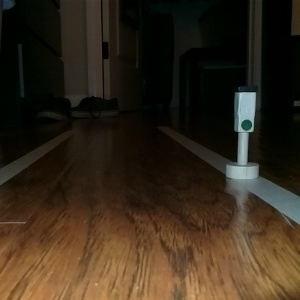traffic light green: (224, 83, 261, 180)
